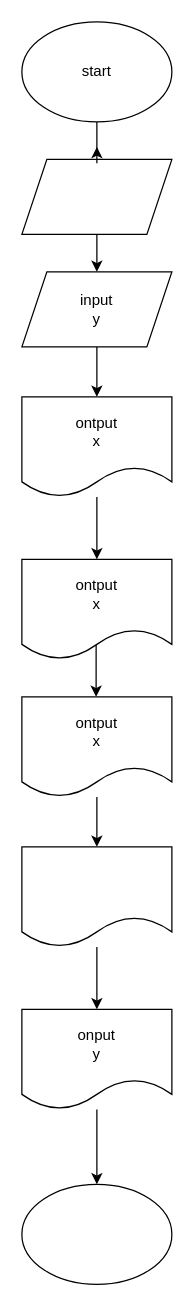
Some shapes in this 194 by 1306 pixel diagram are drawn without their labels. The shapes that lost their labels are listed below. From the top down, each one's box as (x1, y1, x2, y2) in pixels, then its label:
(21, 158, 172, 234): input x
(21, 846, 172, 947): ontput y
(21, 1183, 172, 1284): stop
